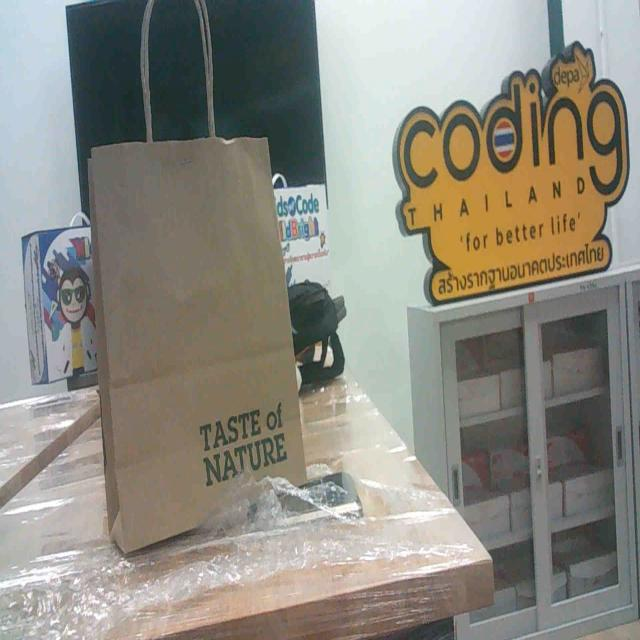bag: (80, 139, 340, 533)
